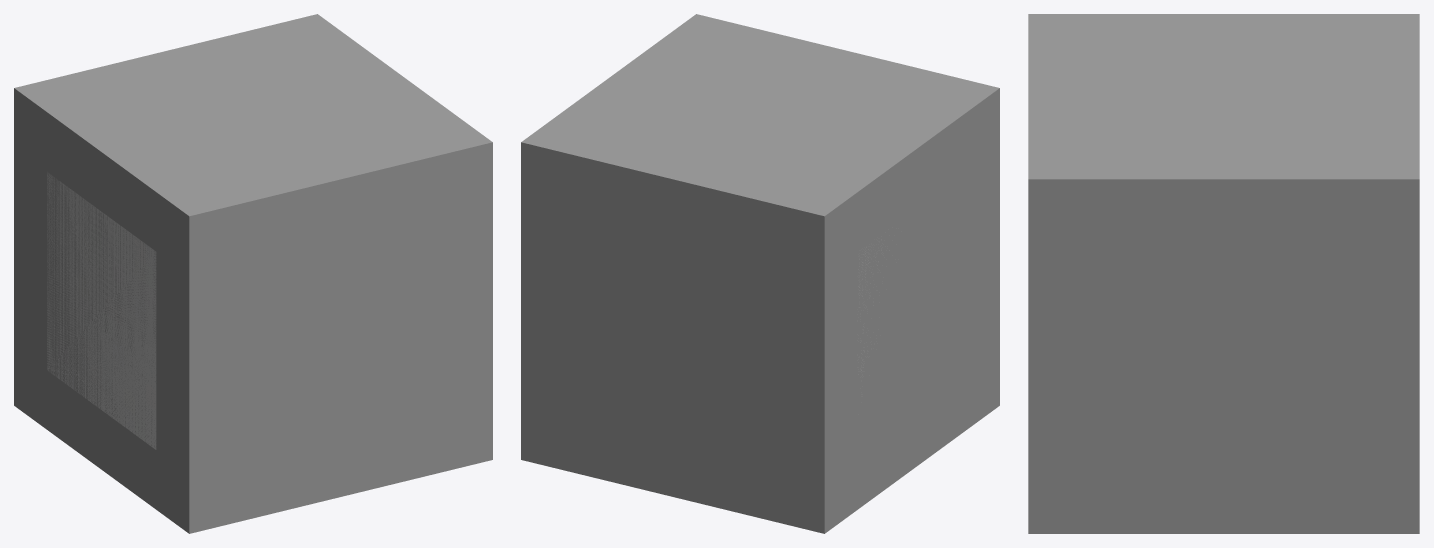
File: batterychargerb.obj
3 views of the same model, side by side, from view 1: azimuth 30°, elevation 25°; view 2: azimuth 150°, elevation 25°; view 3: azimuth 270°, elevation 25° (orthographic). The views are drawn at different scales.
Visible parts, largest first — view 1: Minecraft_Block_Cube, Minecraft_2_Edge_Connectivity_Cube.002, main; view 2: Minecraft_Block_Cube, Minecraft_2_Edge_Connectivity_Cube.002; view 3: Minecraft_Block_Cube, Minecraft_2_Edge_Connectivity_Cube.002.
Boxes of the visible parts, bbox=[...] form: Minecraft_Block_Cube: bbox=[15, 14, 492, 533]; Minecraft_2_Edge_Connectivity_Cube.002: bbox=[14, 88, 252, 533]; main: bbox=[47, 172, 156, 449]; Minecraft_Block_Cube: bbox=[521, 14, 998, 533]; Minecraft_2_Edge_Connectivity_Cube.002: bbox=[760, 88, 999, 533]; Minecraft_Block_Cube: bbox=[1028, 14, 1419, 533]; Minecraft_2_Edge_Connectivity_Cube.002: bbox=[1029, 14, 1418, 96].
Size of the model in its own units: 1 by 1 by 1.
